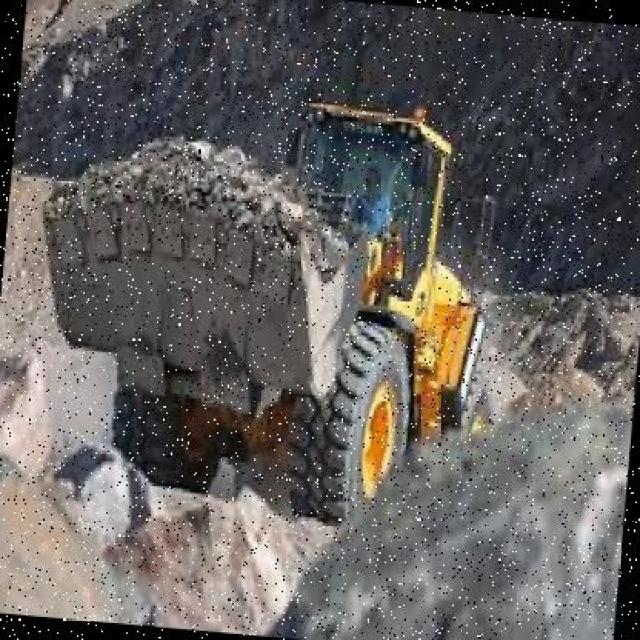buldozerpayloadergrader: (19, 65, 504, 523)
